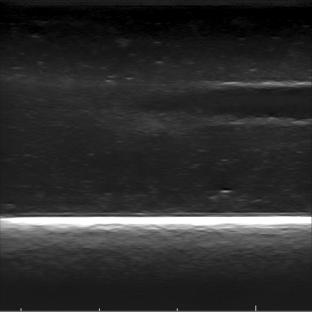vessel: (195, 79, 311, 130)
